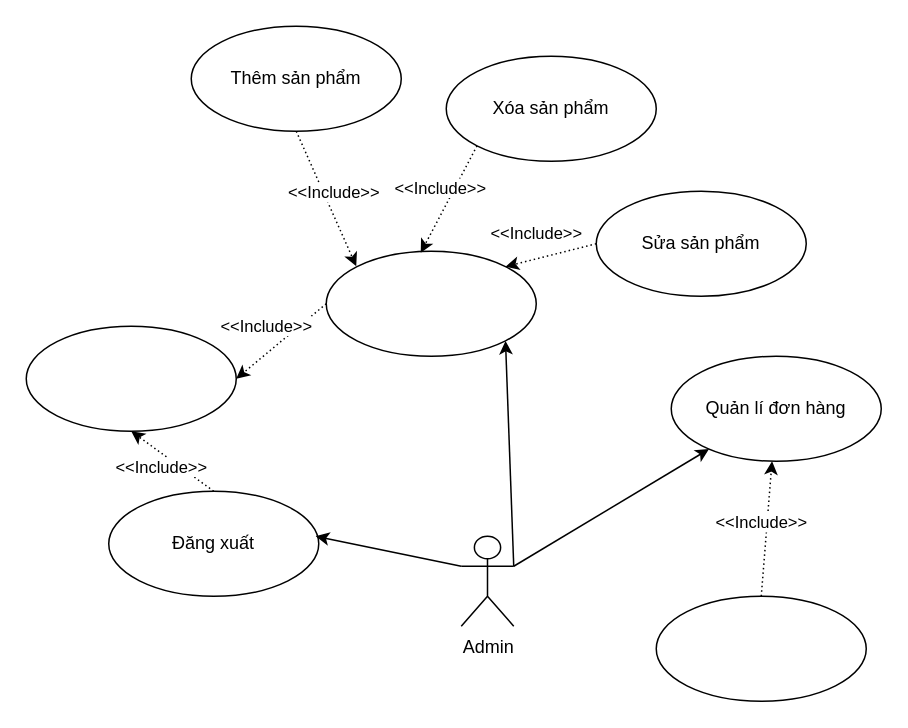
This 908x728 diagram has some shape labels left out. Each missing label, with the centre of its shape:
Quản lí sản phẩm: point 430,303
Thay đổi trạng thái: point 760,648
Đăng nhập: point 130,378
